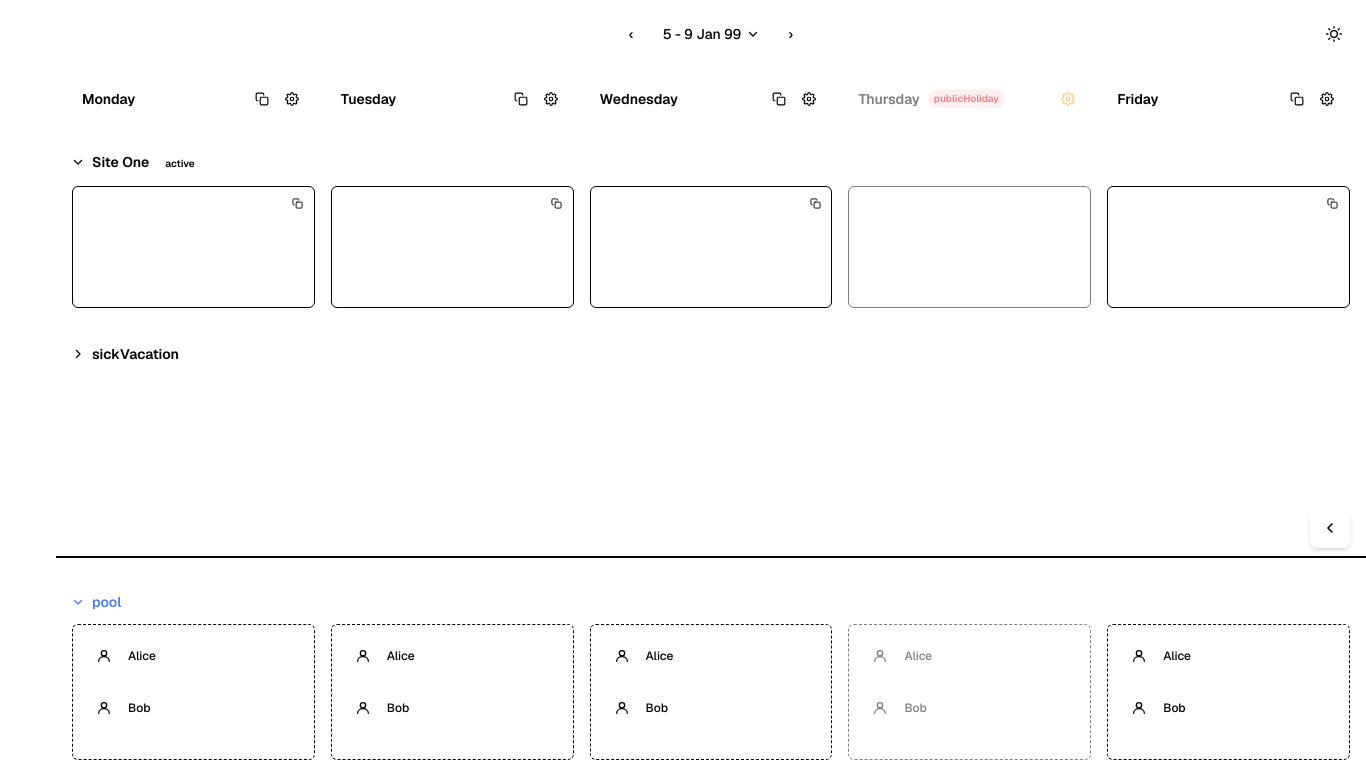
Test: BoardClient — holidays › clearing a holiday removes the badge and persists the clear
Step 1. Click the button titled "holidaySettings" next to "publicHoliday" → (1068, 99), box [1055,86,1081,112]
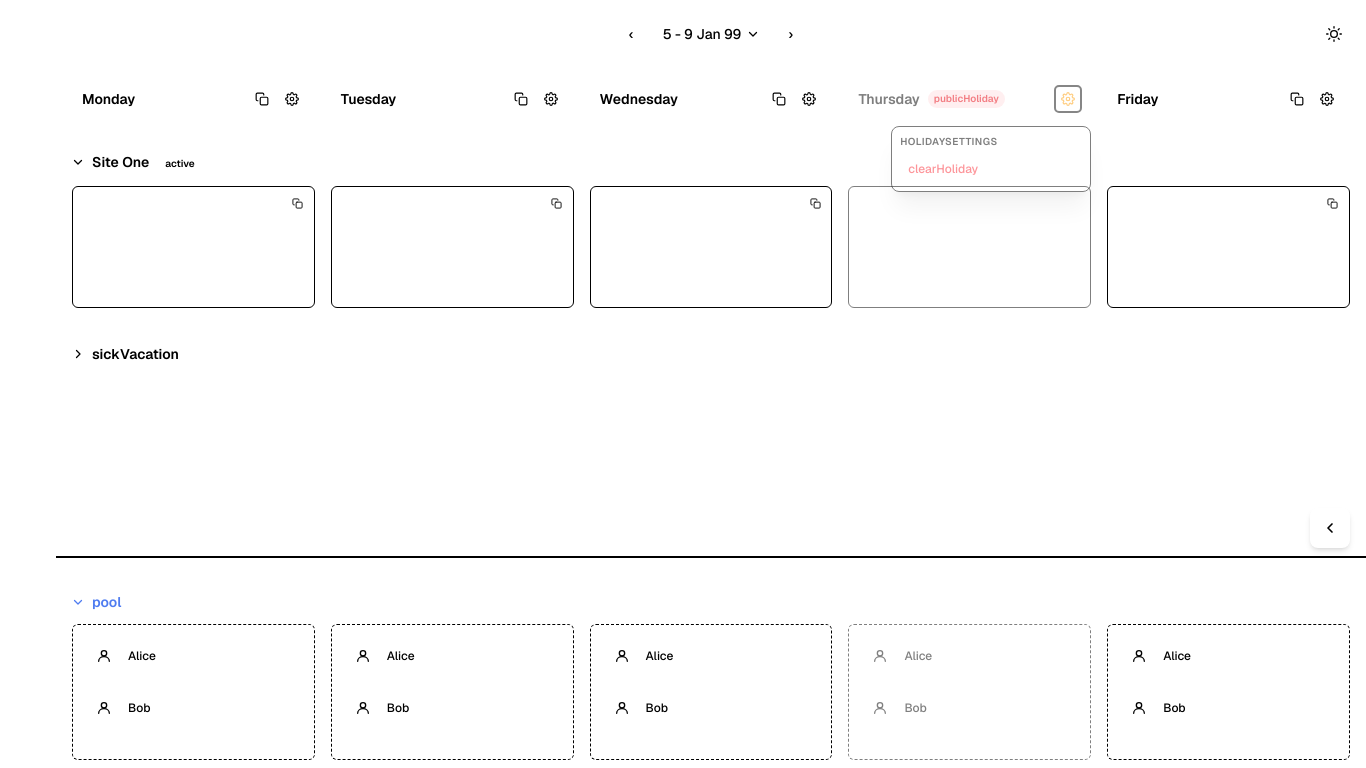
Step 2. Click the button "clearHoliday" → (991, 169), box [900,155,1082,183]
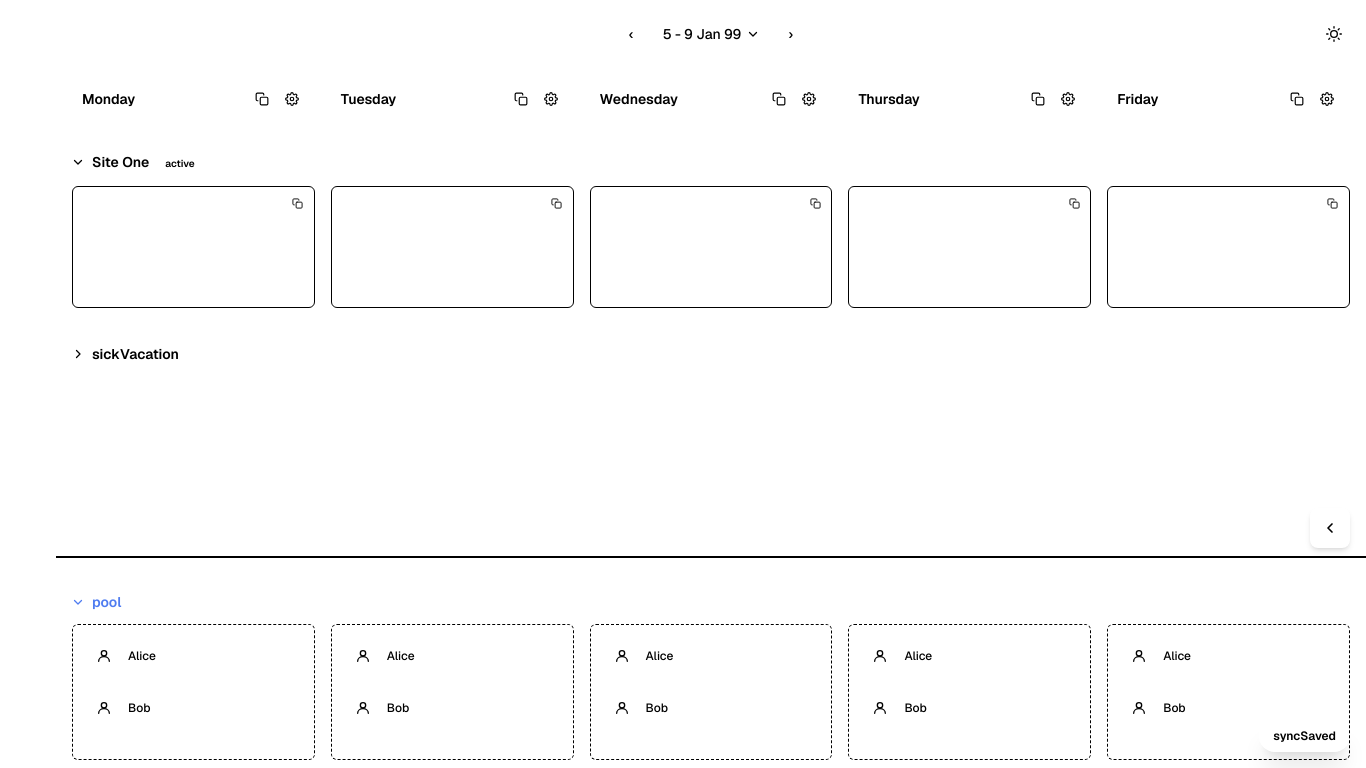
Expected: the text "publicHoliday" is gone
